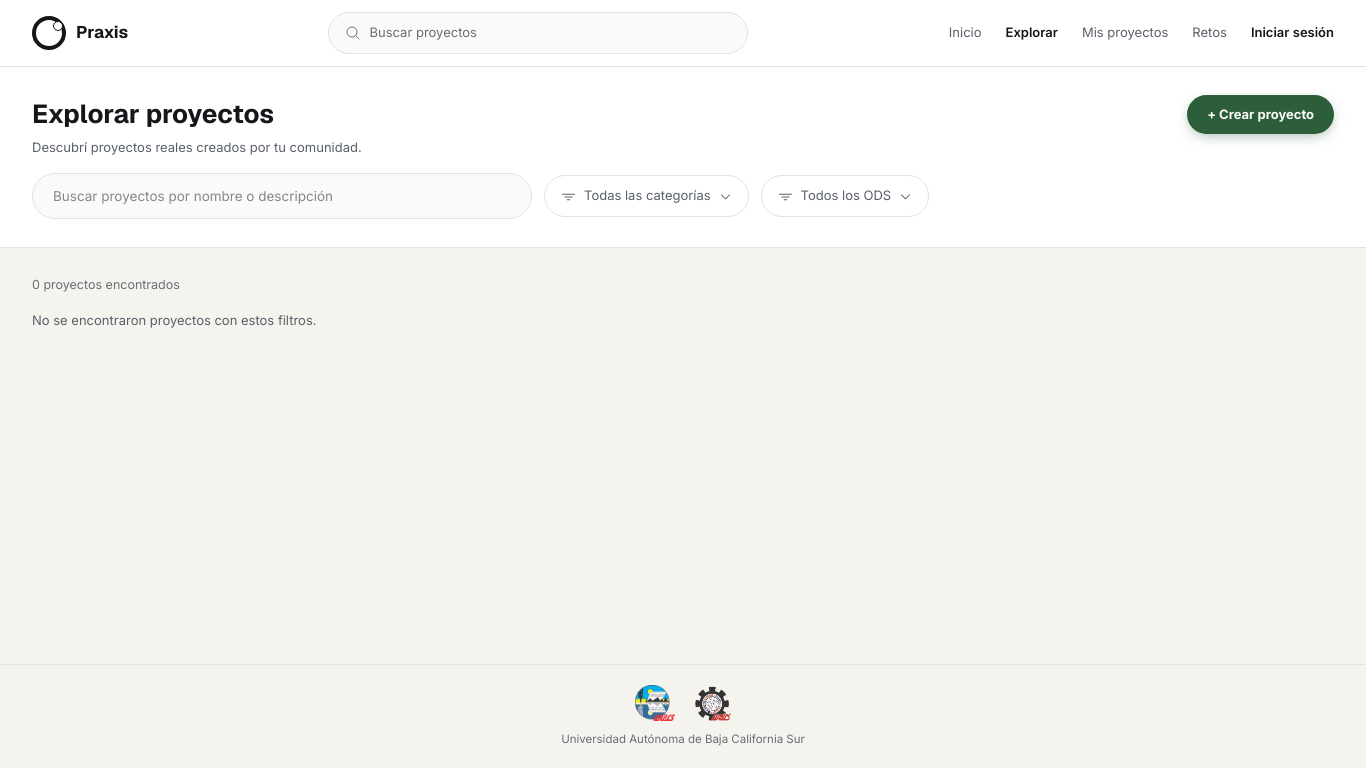
Scenario: Explore — category and ODS filters › applies a category filter once checked
Click the button "Todas las categorías": click(646, 196) top-left (544, 175), bottom-right (749, 217)
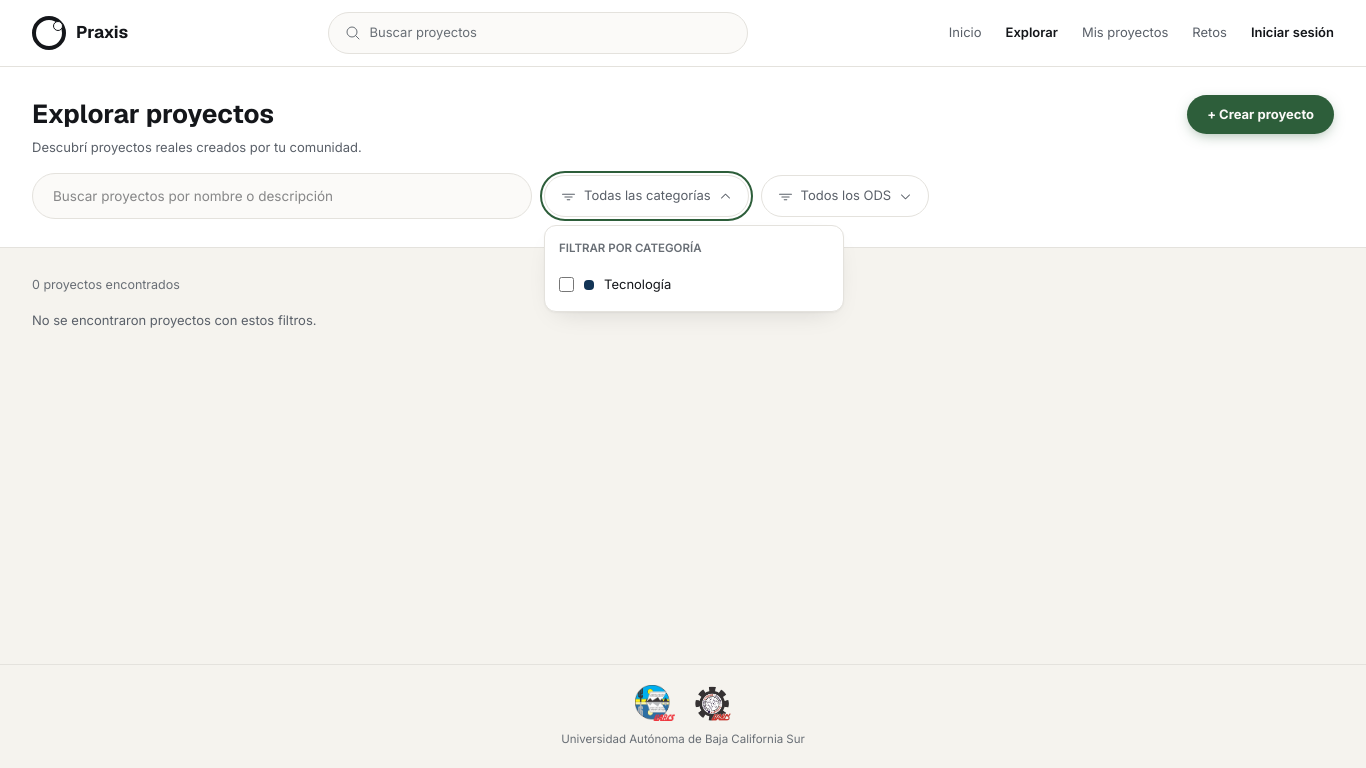
Click the checkbox labelled "Tecnología": click(566, 285) top-left (559, 277), bottom-right (574, 292)
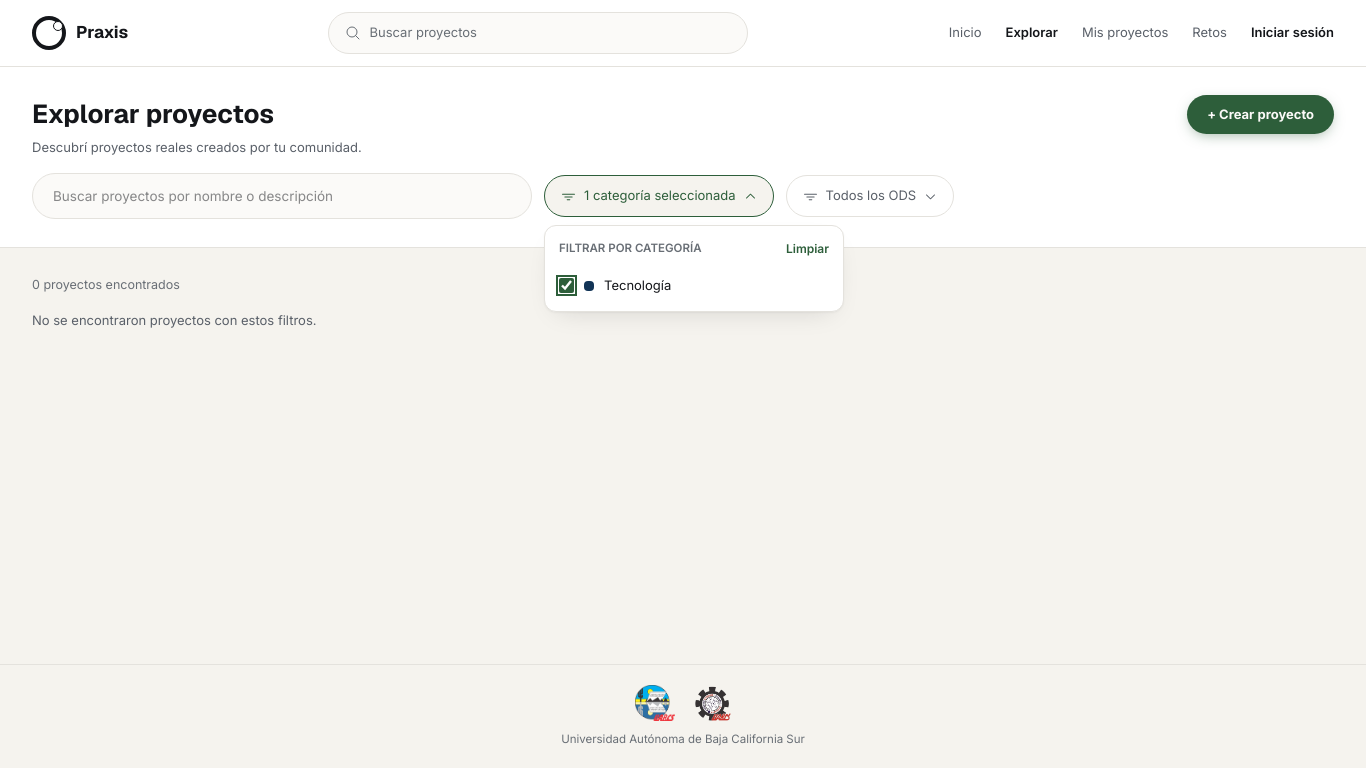
Result: the button "1 categoría seleccionada" is shown at top-left (544, 175), bottom-right (774, 217)
